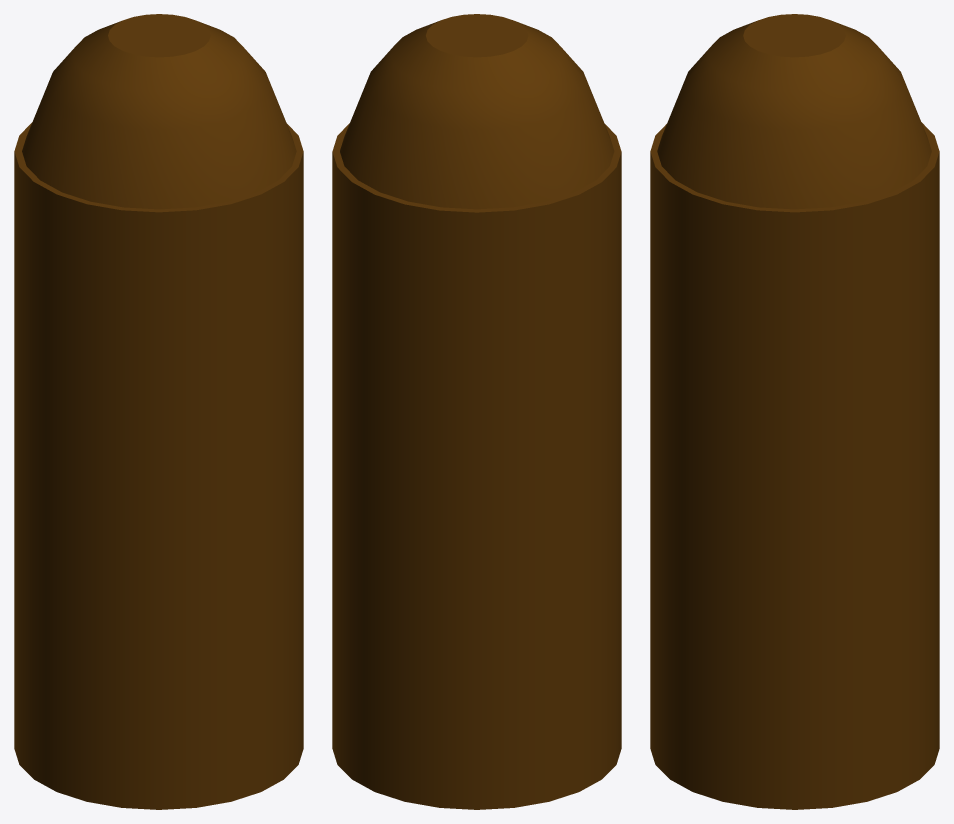
The model's file is Bullet.FBX.
The picture shows the model from 3 angles, left to right: view 1: azimuth 30°, elevation 25°; view 2: azimuth 150°, elevation 25°; view 3: azimuth 270°, elevation 25°; orthographic projection.
Visible parts, largest first — view 1: Cylinder001; view 2: Cylinder001; view 3: Cylinder001.
Part boxes in pixels (x1,y1,x2,y2): Cylinder001: (14,14,303,809); Cylinder001: (332,14,621,809); Cylinder001: (650,14,939,809).
Bounding box in the file's own units: 4.3 × 11.71 × 4.3.
